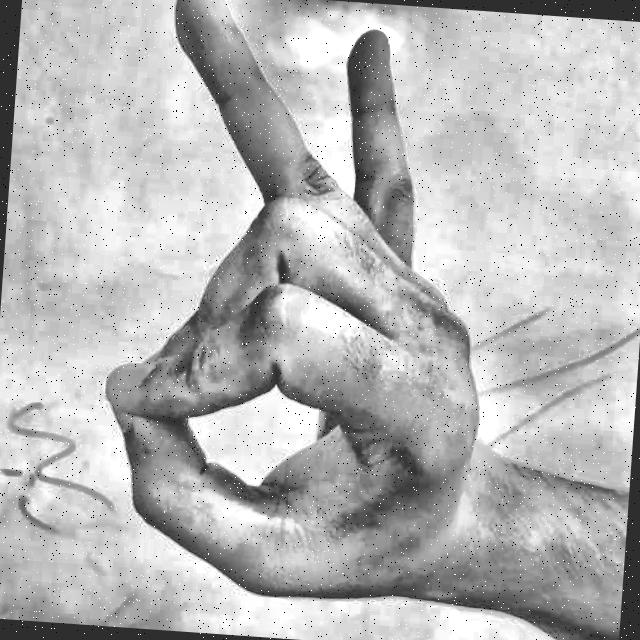Na: (27, 0, 530, 636)
